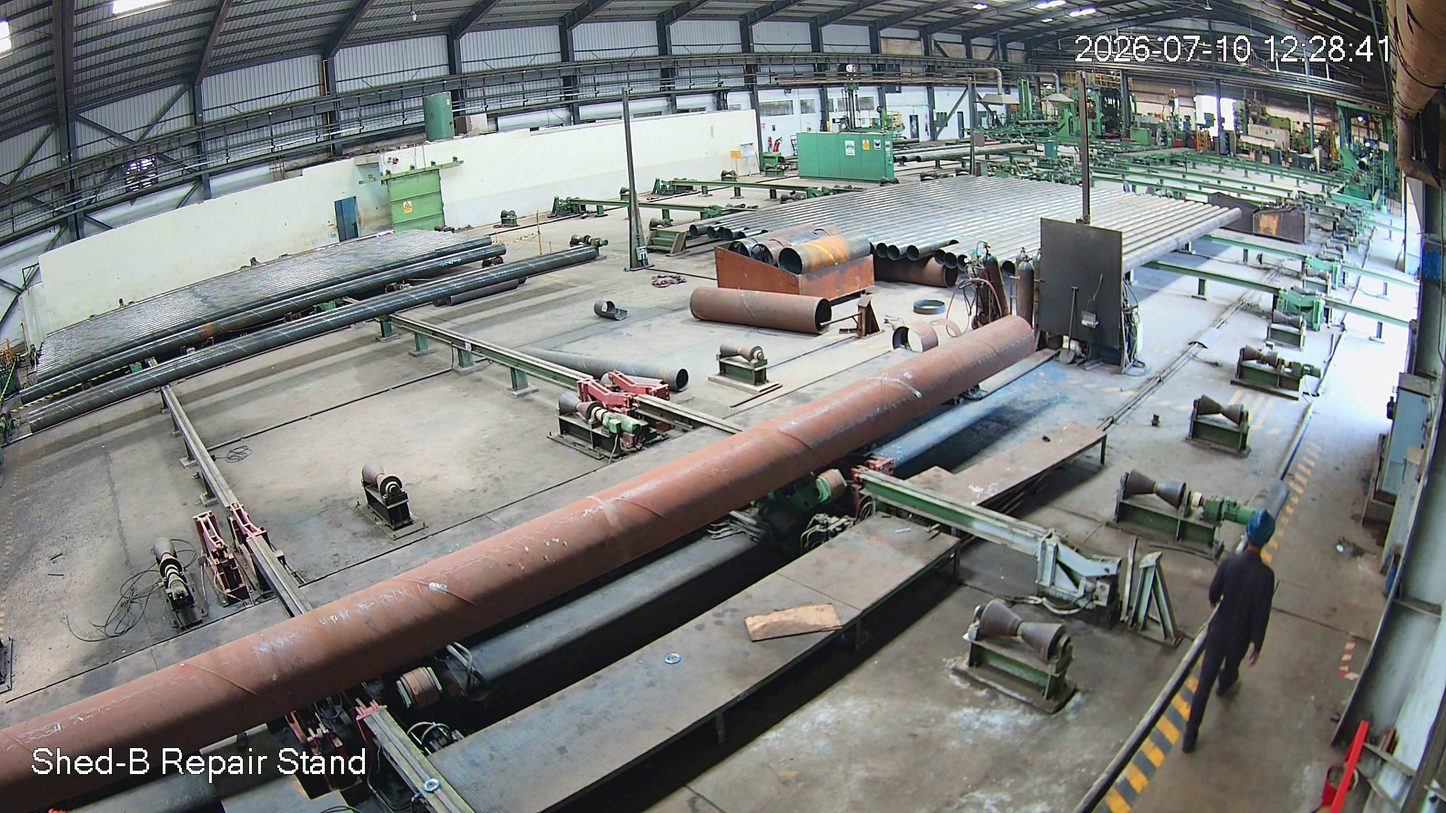Helmet: (1229, 492, 1282, 563)
Person: (1172, 501, 1287, 777)
